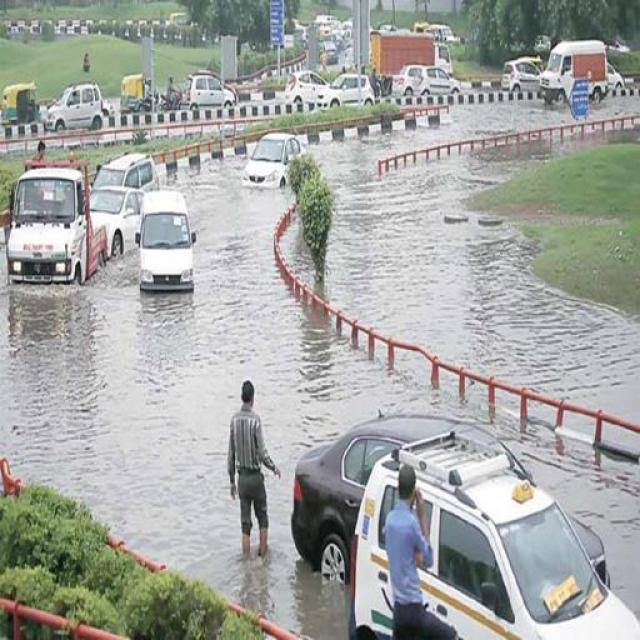puddle: (335, 173, 483, 407), (1, 282, 330, 372), (13, 388, 241, 506)
